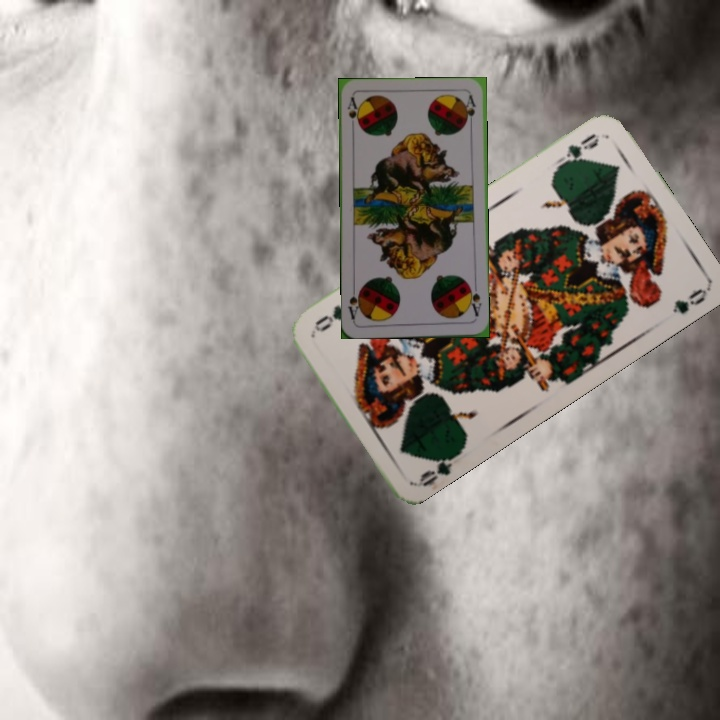GO: (414, 446, 465, 490), (550, 129, 602, 172)
SA: (464, 280, 484, 319), (343, 93, 361, 130)
